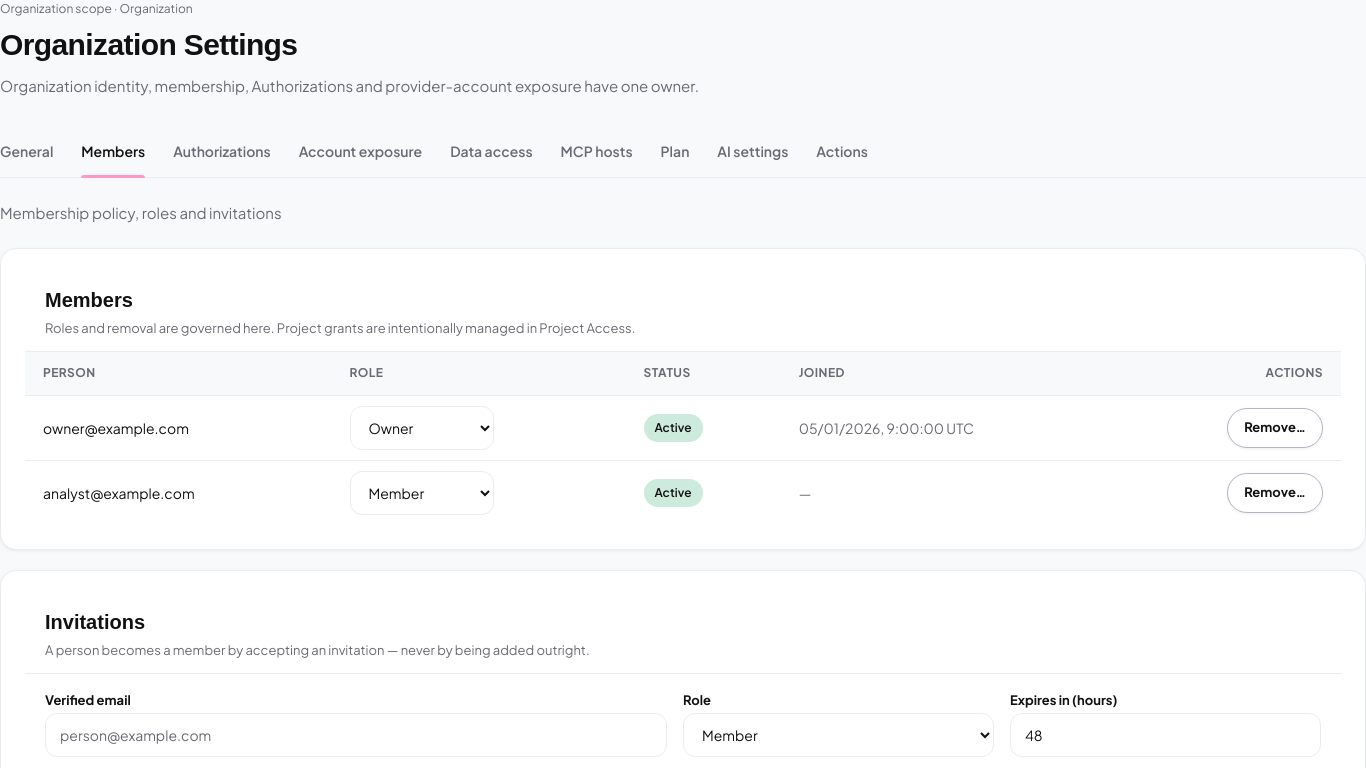
it: Members — removal › surfaces the last-owner 409 on removal too
The width and height of the screenshot is (1366, 768).
Click the button with test id "remove-member-owner@example.com".
click(1275, 428)  # box [1227,408,1323,448]
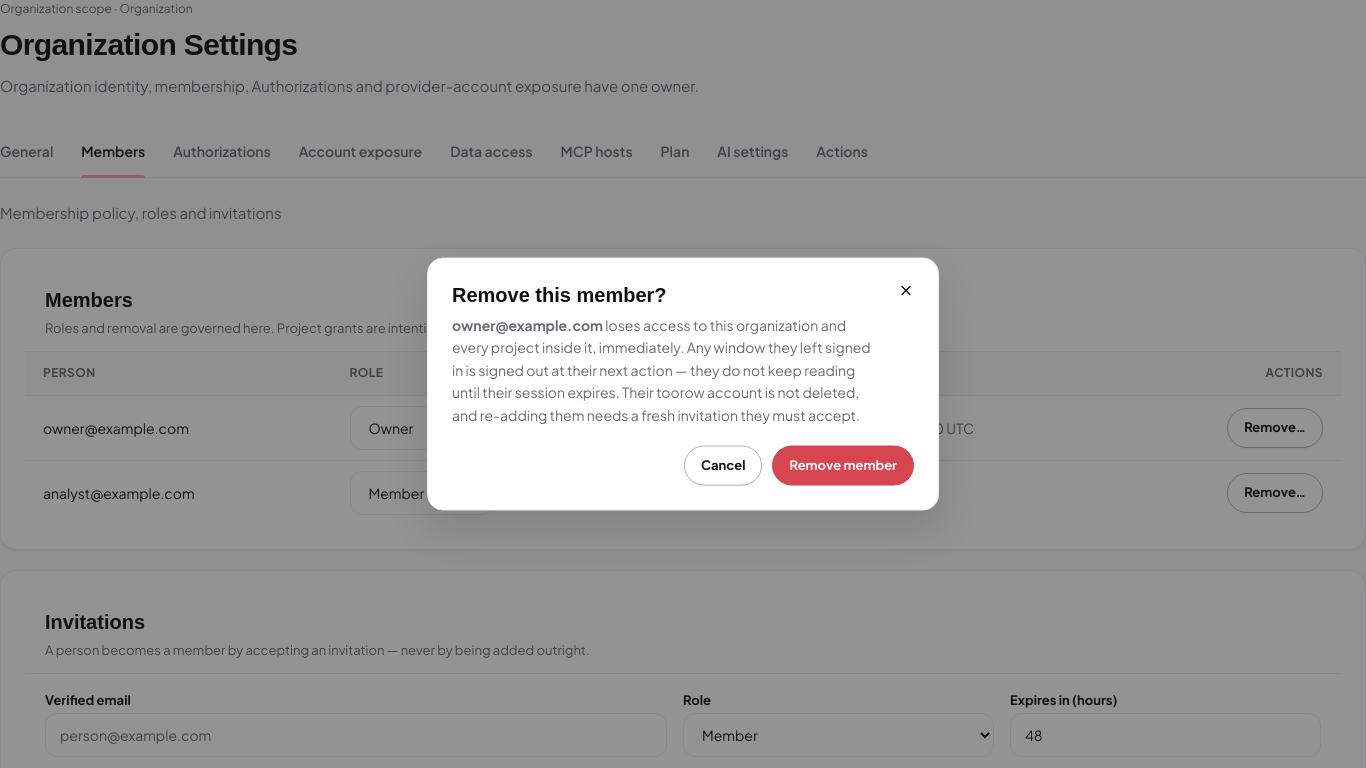
Click the button "Remove member".
click(843, 466)  # box [772,446,914,486]
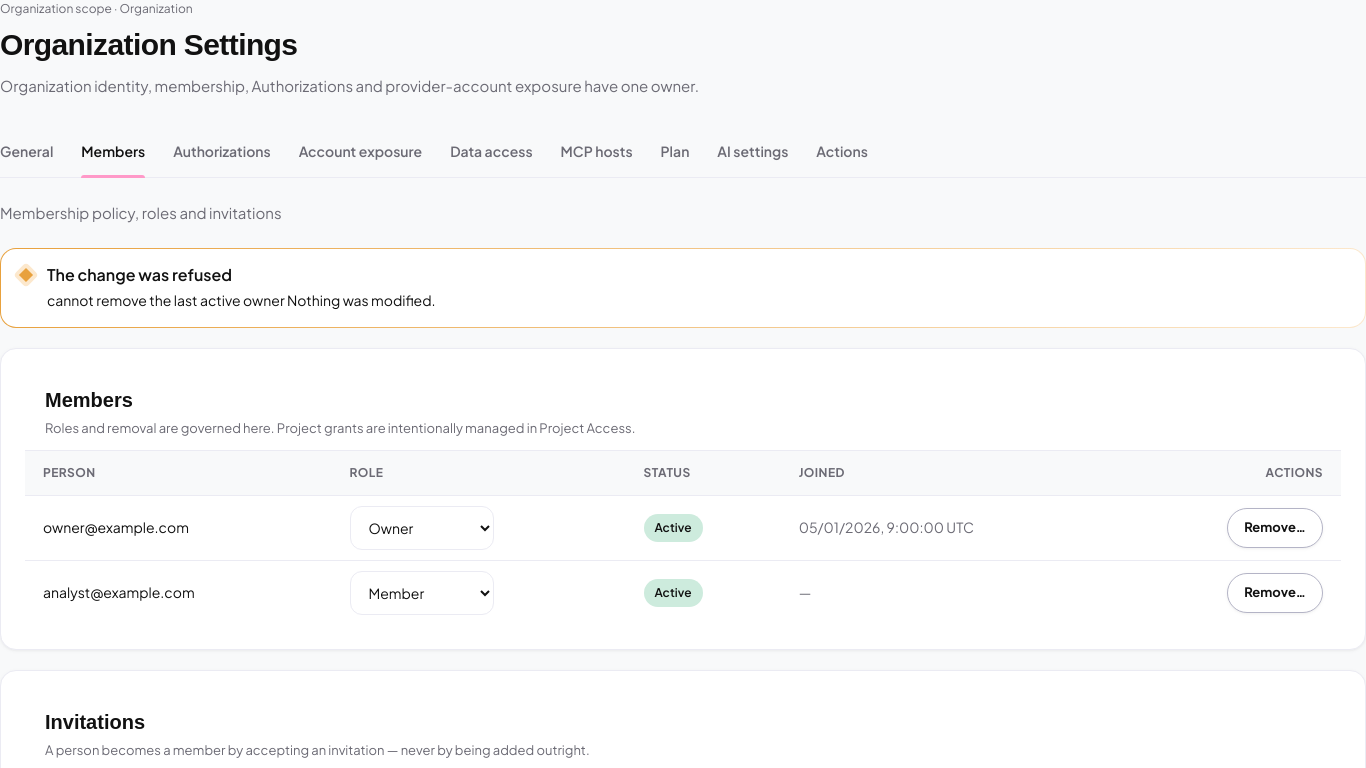
Result: the message with test id "members-warning" shows "cannot remove the last active owner" at [47,291,285,309]
